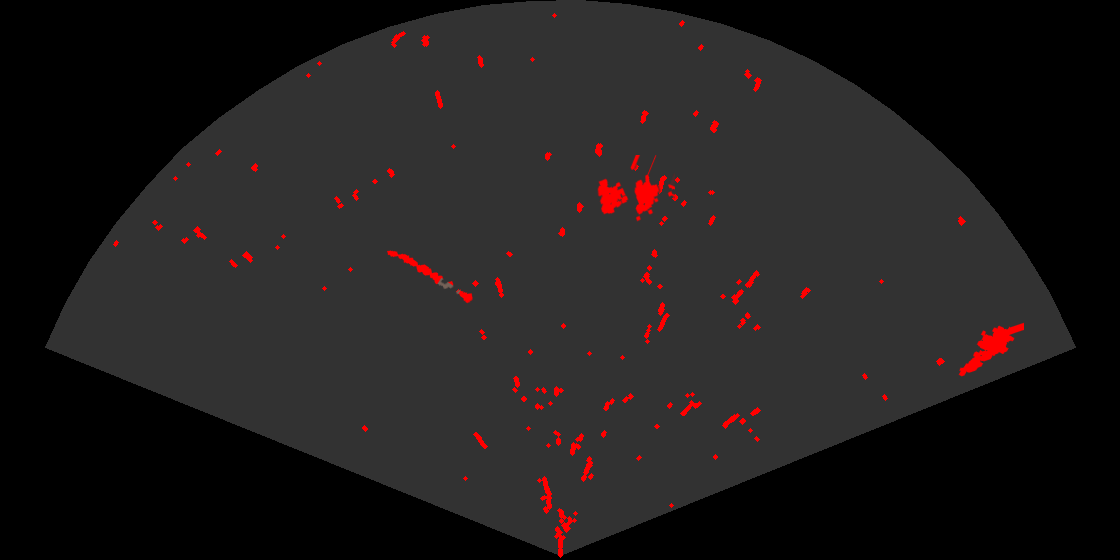cage: (596, 155, 675, 223)
chain: (385, 249, 474, 305)
frogman: (957, 321, 1024, 378)
